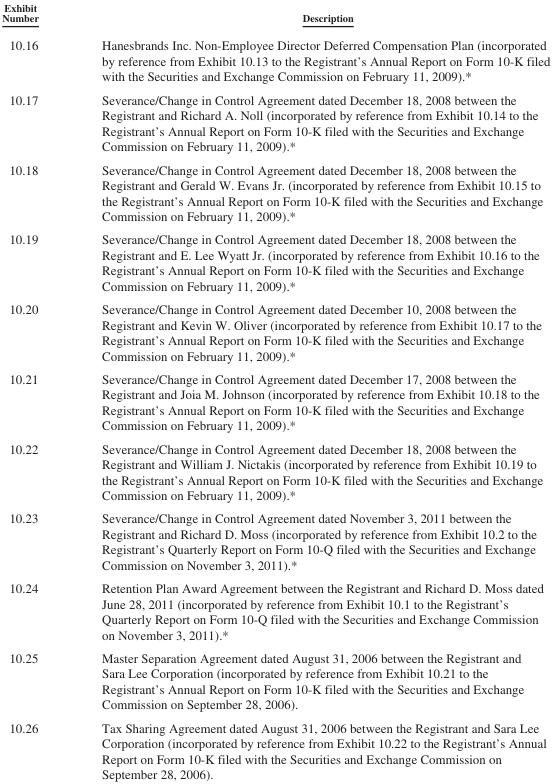table: (1, 1, 549, 780)
table column: (69, 1, 549, 780), (1, 1, 69, 780)
table column header: (1, 1, 549, 30)
table row: (1, 87, 549, 157), (1, 157, 549, 227), (1, 227, 549, 297), (1, 366, 549, 436), (1, 436, 549, 506), (1, 506, 549, 576), (1, 645, 549, 715), (1, 297, 549, 366), (1, 576, 549, 645), (1, 715, 549, 780), (1, 30, 549, 87), (1, 1, 549, 30)
